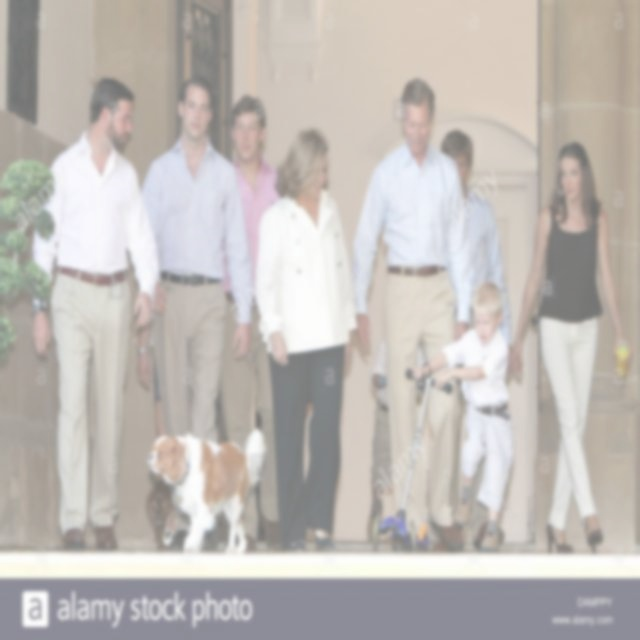pessoa: (345, 74, 477, 565), (28, 72, 160, 555), (134, 74, 256, 558), (509, 138, 635, 558), (250, 126, 360, 558), (218, 94, 286, 556), (408, 278, 516, 558), (432, 124, 513, 380), (364, 334, 394, 544)
